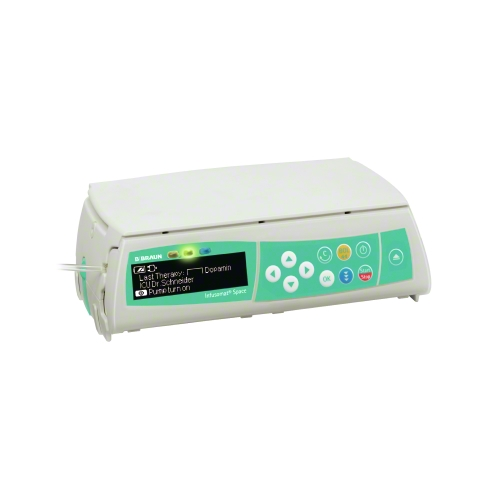BBraun Infusomat Space: (72, 151, 439, 341)
